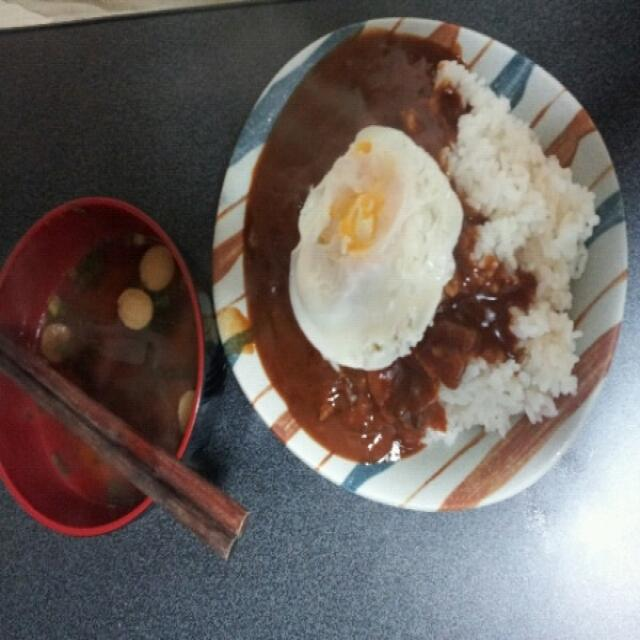汤锅炖物: (0, 189, 209, 538)
牛肉菜式: (210, 3, 637, 516)
鸡蛋料理: (286, 122, 470, 373)
